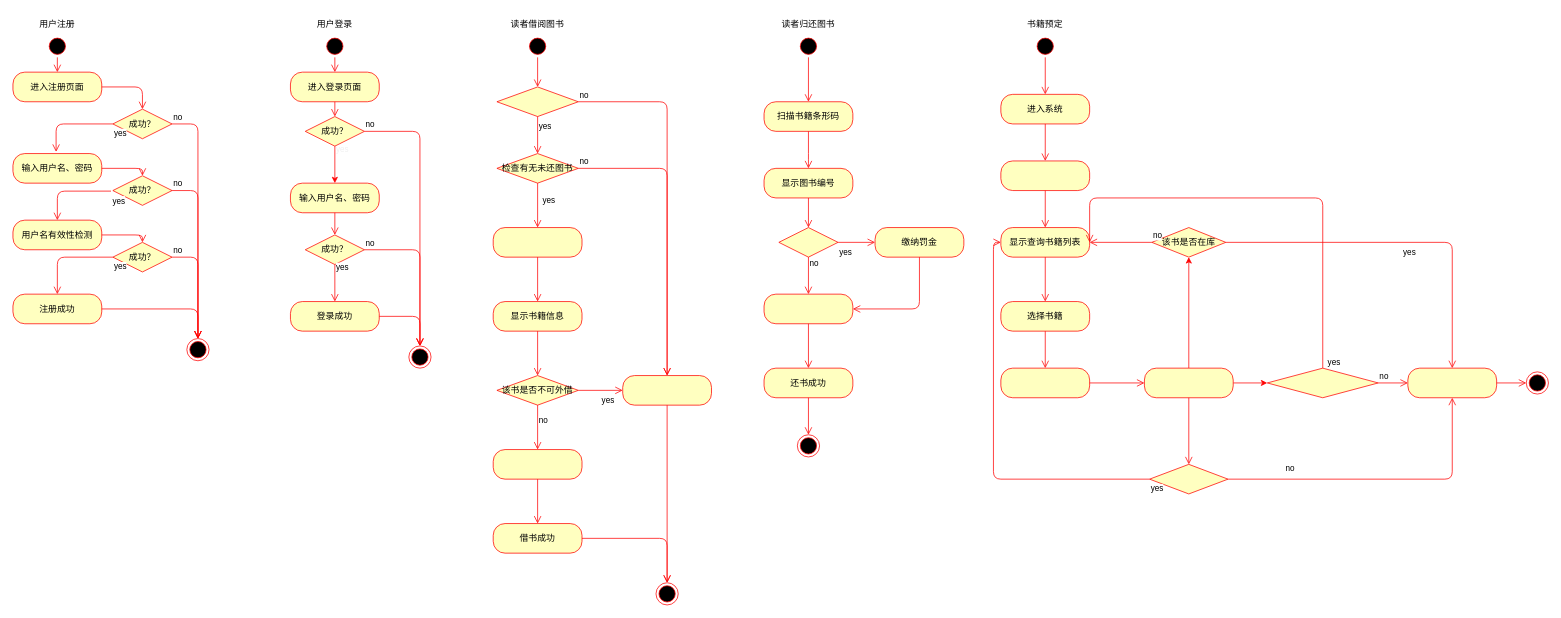
Some shapes in this 1561 by 618 pixel diagram are drawn without their labels. The shapes that lost their labels are listed below. From the top down, each one's box as (x1, y1, x2, y2) in pixels, then its label:
(496, 86, 578, 117): 检查借阅证有效性
(1000, 160, 1090, 191): 查询书籍
(492, 227, 582, 257): 扫描书籍二维码
(778, 227, 838, 257): 是否过期
(763, 293, 853, 324): 更新读者信息和书籍信息
(622, 375, 712, 405): 提示不可借
(1000, 367, 1090, 398): 显示书籍详细信息
(1144, 367, 1233, 398): 图书预定
(1267, 367, 1378, 398): 该书是否为不可借资源
(1407, 367, 1497, 398): 预定成功
(492, 449, 582, 479): 更新书籍和读者信息
(1149, 464, 1228, 494): 该书是否被预定
